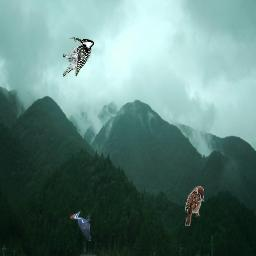Sparrow: (185, 186, 204, 226)
Woodpecker: (63, 37, 94, 77), (70, 209, 91, 242)
